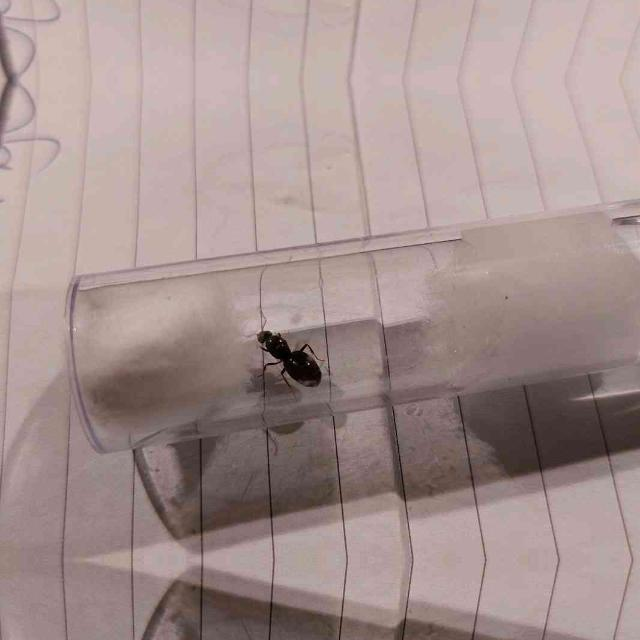Lasius: (236, 314, 328, 390)
